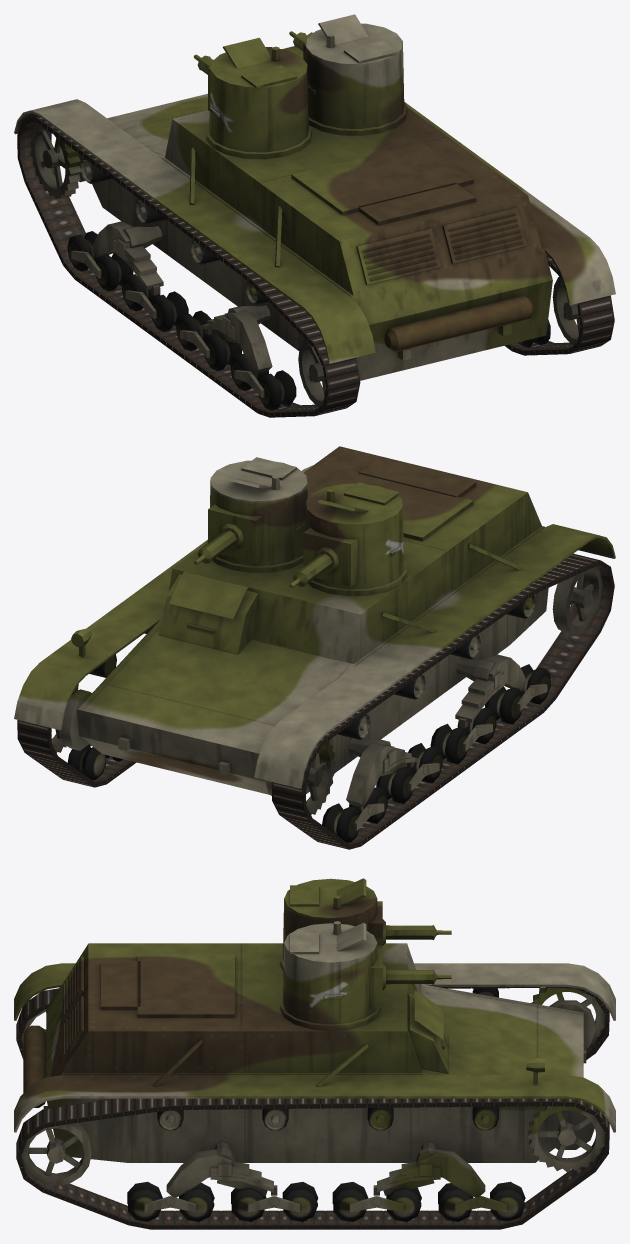
3 renders of one model, top to bottom at view 1: azimuth 30°, elevation 25°; view 2: azimuth 150°, elevation 25°; view 3: azimuth 270°, elevation 25°, orthographic. The views are drawn at different scales.
Parts seen in each view (by area): view 1: Chassis, Chenille_Gauche_01, Tourelle_01, Tourelle_02, Chenille_Droite_01, Roue_G1, Roue_G10, Roue_G9, Roue_D10, Roue_G5, Roue_G3, Roue_G7 (+3 smaller); view 2: Chassis, Chenille_Gauche_01, Tourelle_01, Tourelle_02, Chenille_Droite_01, Roue_G10, Roue_G1, Roue_G6, Roue_G2, Roue_G8, Roue_D2, Roue_G4 (+5 smaller); view 3: Chassis, Chenille_Droite_01, Tourelle_02, Tourelle_01, Roue_D1, Roue_D10, Chenille_Gauche_01, Roue_D6, Roue_D5, Roue_D2, Roue_D9, Roue_D8 (+6 smaller).
Part boxes in pixels (left/top/right/bottom): Chassis: left=14, top=32, right=615, bottom=397; Chenille_Gauche_01: left=17, top=116, right=360, bottom=417; Tourelle_01: left=206, top=37, right=311, bottom=159; Tourelle_02: left=303, top=14, right=406, bottom=135; Chenille_Droite_01: left=504, top=253, right=614, bottom=355; Roue_G1: left=30, top=122, right=80, bottom=198; Roue_G10: left=298, top=339, right=326, bottom=408; Roue_G9: left=258, top=370, right=296, bottom=410; Roue_D10: left=552, top=276, right=580, bottom=346; Roue_G5: left=151, top=291, right=188, bottom=331; Roue_G3: left=95, top=252, right=133, bottom=291; Roue_G7: left=204, top=334, right=241, bottom=370; Chassis: left=14, top=446, right=615, bottom=830; Chenille_Gauche_01: left=271, top=553, right=614, bottom=849; Tourelle_01: left=302, top=482, right=406, bottom=595; Tourelle_02: left=206, top=457, right=307, bottom=572; Chenille_Droite_01: left=17, top=720, right=136, bottom=787; Roue_G10: left=552, top=566, right=602, bottom=635; Roue_G1: left=305, top=740, right=335, bottom=814; Roue_G6: left=430, top=723, right=468, bottom=764; Roue_G2: left=322, top=803, right=359, bottom=842; Roue_G8: left=485, top=686, right=523, bottom=724; Roue_D2: left=67, top=744, right=105, bottom=779; Roue_G4: left=376, top=767, right=414, bottom=803; Chassis: left=14, top=943, right=615, bottom=1212; Chenille_Droite_01: left=16, top=1098, right=609, bottom=1229; Tourelle_02: left=280, top=921, right=382, bottom=1030; Tourelle_01: left=280, top=878, right=382, bottom=971; Roue_D1: left=527, top=1106, right=606, bottom=1172; Roue_D10: left=21, top=1123, right=91, bottom=1185; Chenille_Gauche_01: left=16, top=987, right=609, bottom=1059; Roue_D6: left=282, top=1182, right=318, bottom=1221; Roue_D5: left=332, top=1182, right=368, bottom=1221; Roue_D2: left=490, top=1181, right=525, bottom=1221; Roue_D9: left=127, top=1181, right=162, bottom=1221; Roue_D8: left=179, top=1182, right=214, bottom=1221.
Size of the model in its own units: 240 by 458 by 214.
Materials: 3 (3 with a texture image).
